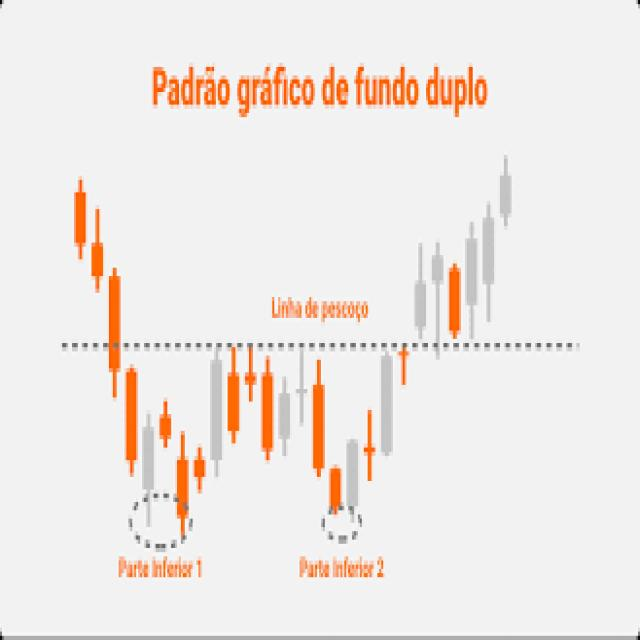fundo_duplo: (50, 109, 533, 540)
